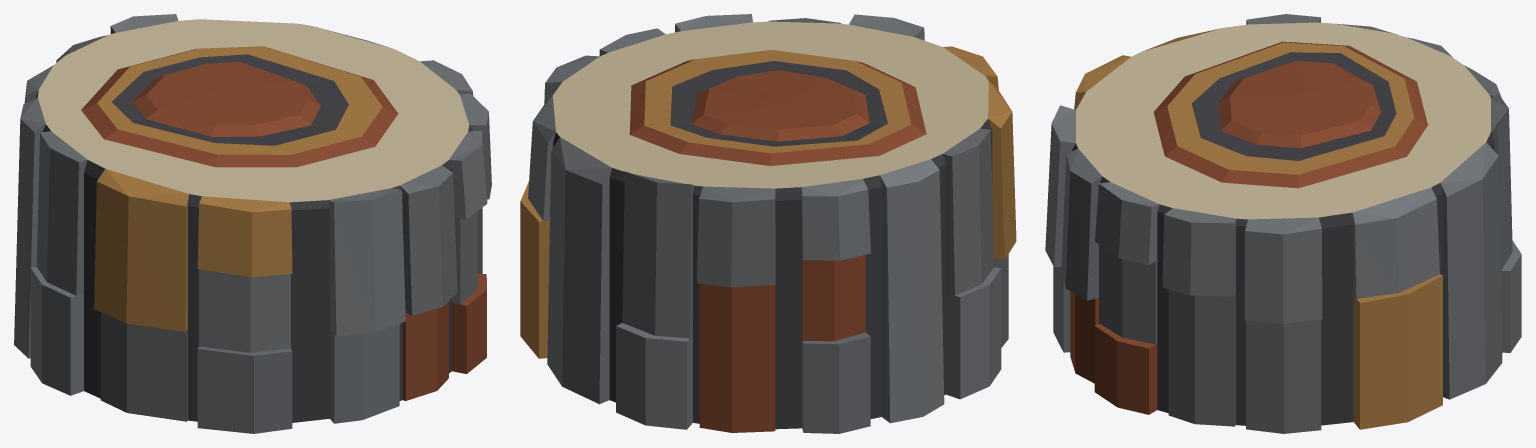
The model's file is petrified-log-413693.glb.
3 views of the same model, side by side, from view 1: azimuth 30°, elevation 25°; view 2: azimuth 150°, elevation 25°; view 3: azimuth 270°, elevation 25° (orthographic). The views are drawn at different scales.
Parts seen in each view (by area): view 1: round; view 2: round; view 3: round.
Part boxes in pixels (left/top/right/bottom): round: left=14, top=14, right=491, bottom=433; round: left=520, top=14, right=1016, bottom=433; round: left=1045, top=14, right=1521, bottom=433.
Bounding box in the file's own units: 1 × 0.542 × 1.
